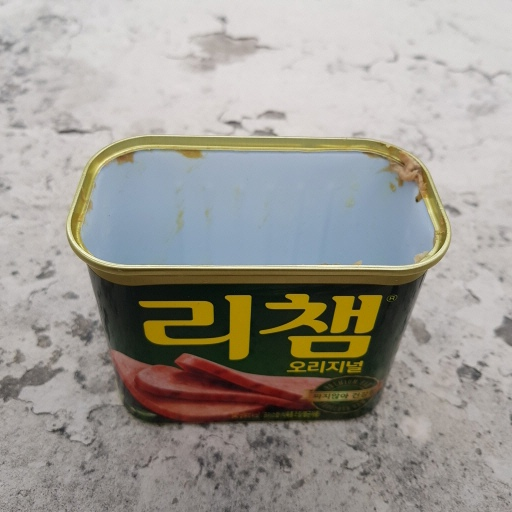Metal_2: (63, 129, 451, 429)
